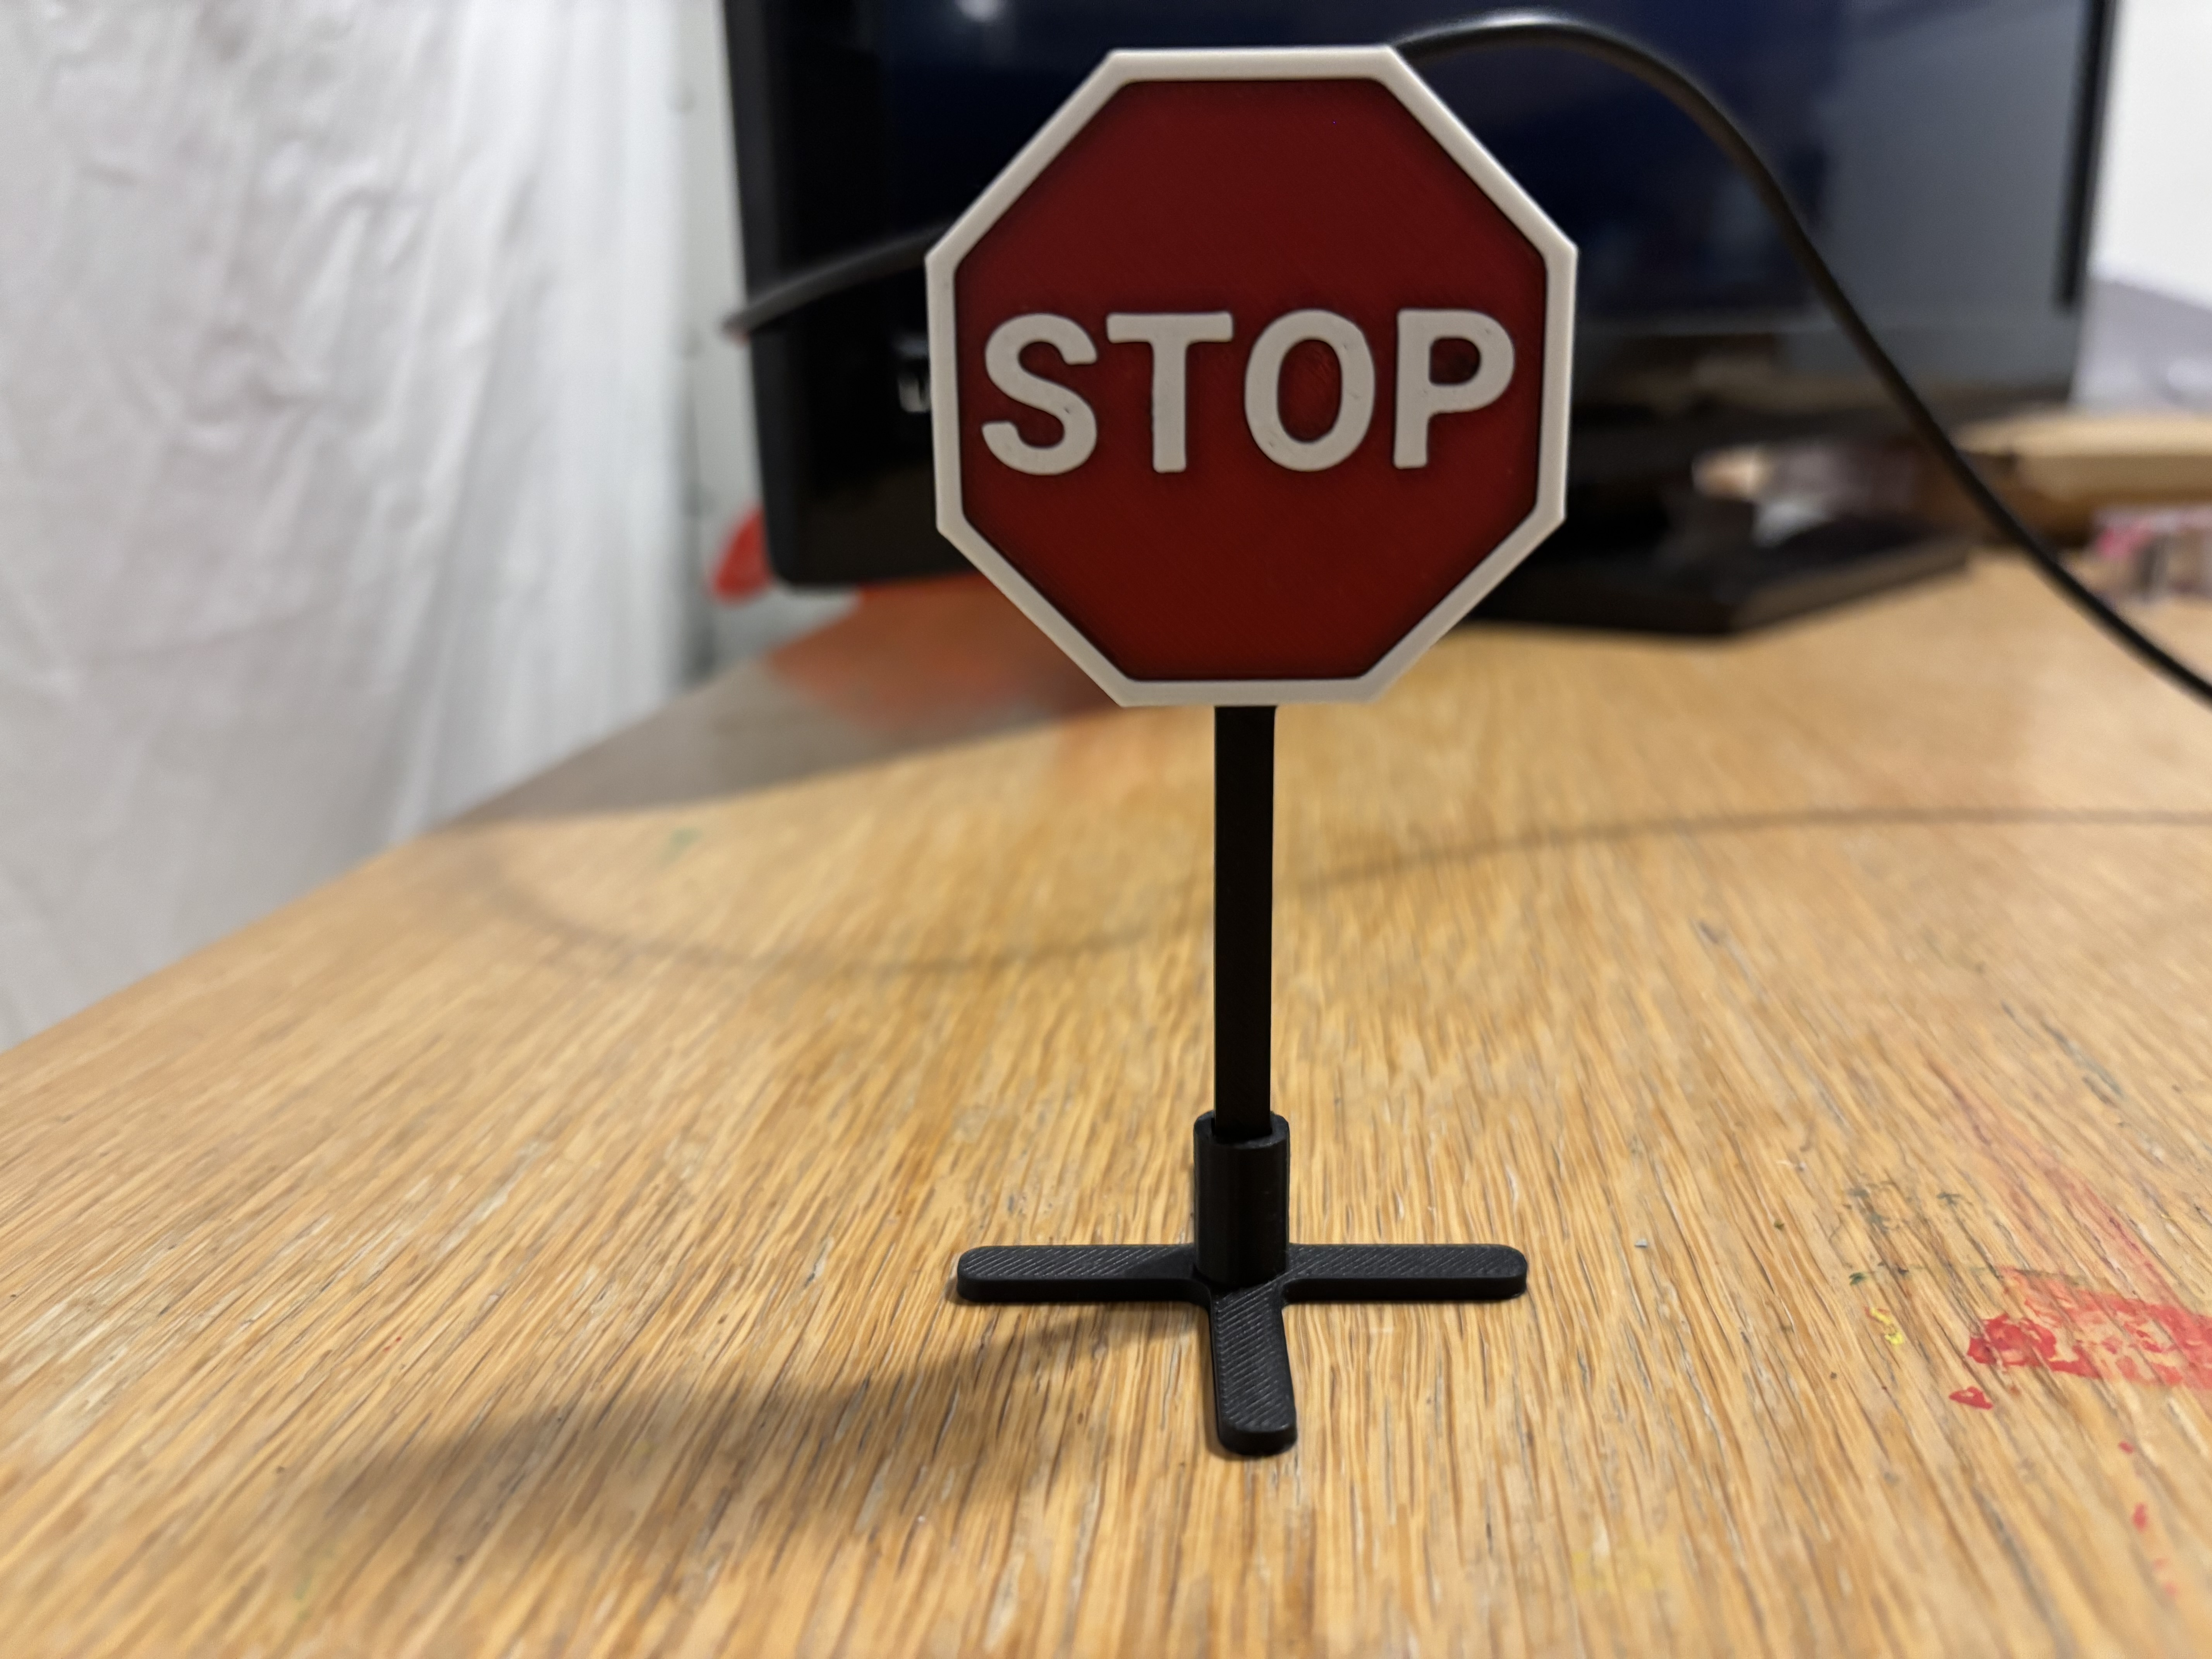sign_stop: (906, 30, 1594, 711)
